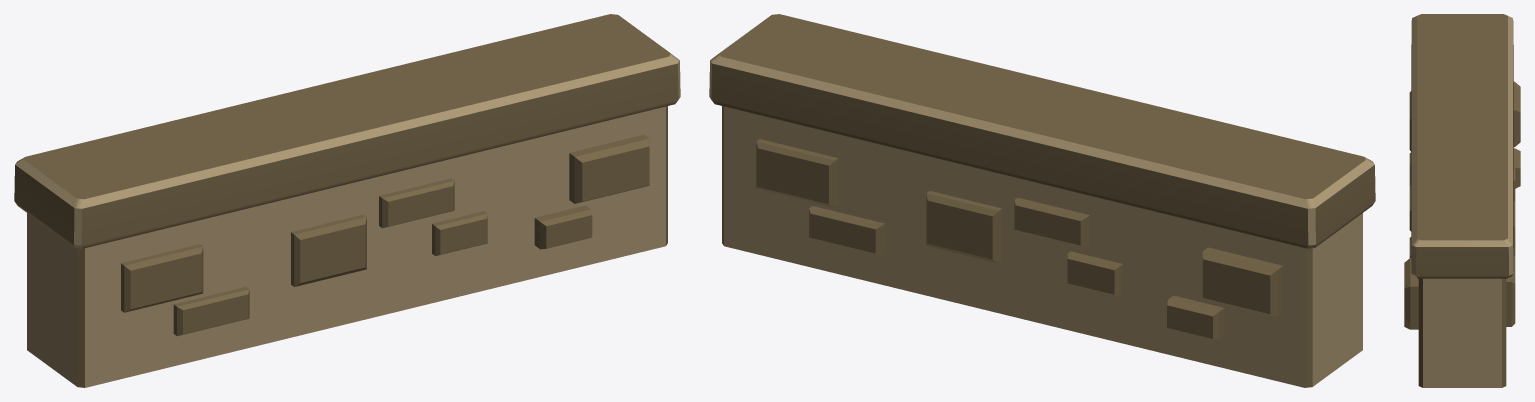
Rendered from Wall.fbx.
3 views of the same model, side by side, from view 1: azimuth 30°, elevation 25°; view 2: azimuth 150°, elevation 25°; view 3: azimuth 270°, elevation 25° (orthographic). The views are drawn at different scales.
Parts seen in each view (by area): view 1: Wall, pCube3, pCube6, pCube1, pCube4, pCube2, pCube7, pCube5; view 2: Wall, pCube10, pCube13, pCube8, pCube11, pCube9, pCube14, pCube12; view 3: Wall, pCube6, pCube13, pCube8, pCube14, pCube1, pCube10, pCube4, pCube11.
Part boxes in pixels (<box>): Wall: <box>14,14,680,387</box>; pCube3: <box>291,214,366,286</box>; pCube6: <box>569,134,649,203</box>; pCube1: <box>121,244,203,312</box>; pCube4: <box>379,178,454,228</box>; pCube2: <box>173,287,249,336</box>; pCube7: <box>534,205,592,249</box>; pCube5: <box>432,211,487,256</box>; Wall: <box>709,14,1375,387</box>; pCube10: <box>926,191,1002,263</box>; pCube13: <box>1202,247,1282,316</box>; pCube8: <box>756,139,838,207</box>; pCube11: <box>1014,197,1089,247</box>; pCube9: <box>809,206,884,255</box>; pCube14: <box>1167,295,1224,339</box>; pCube12: <box>1067,251,1122,296</box>; Wall: <box>1411,14,1513,387</box>; pCube6: <box>1404,258,1418,323</box>; pCube13: <box>1513,81,1520,147</box>; pCube8: <box>1506,255,1515,318</box>; pCube14: <box>1513,148,1520,188</box>; pCube1: <box>1409,91,1411,151</box>; pCube10: <box>1513,201,1515,255</box>; pCube4: <box>1409,185,1411,231</box>; pCube11: <box>1513,155,1515,200</box>.
Size of the model in its own units: 108 by 32.27 by 22.88.
